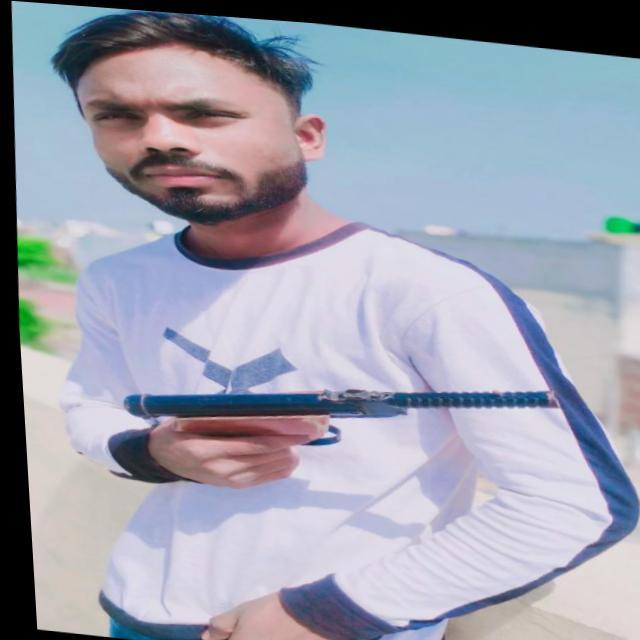weapon: (107, 335, 606, 519)
